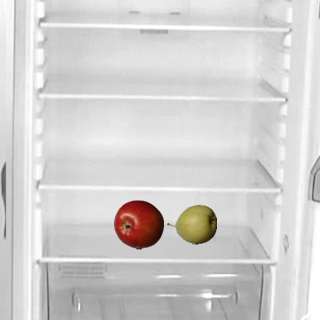Apple Braeburn: (113, 199, 163, 249)
Pear: (166, 199, 216, 249)
